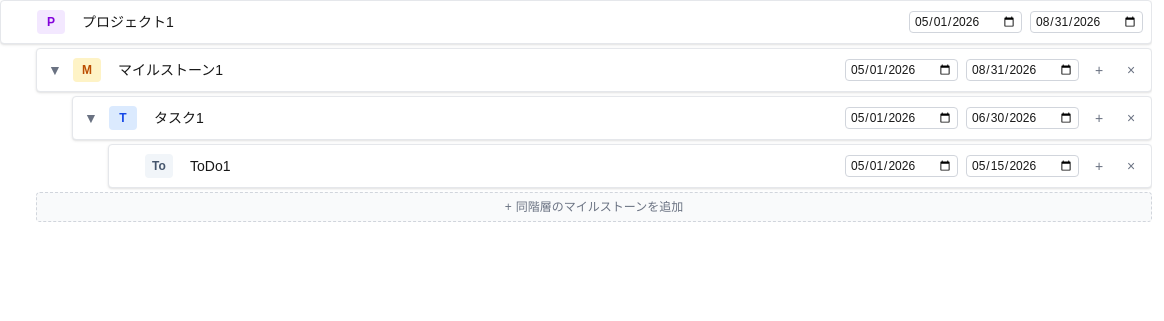
Test case: ManagementTree — 折り畳み後の Task 追加でスクロール › Task 追加ボタン押下で新 Task が表示され scrollIntoView が呼ばれる
// Task 行内の「同階層を追加」ボタン (handleAddTask) を data-row-id でスコープして特定
What coordinates should you click on to do the following:
click the button named "同階層を追加"
I would click on:
 (1099, 118)
Its box is [1087, 106, 1111, 130].
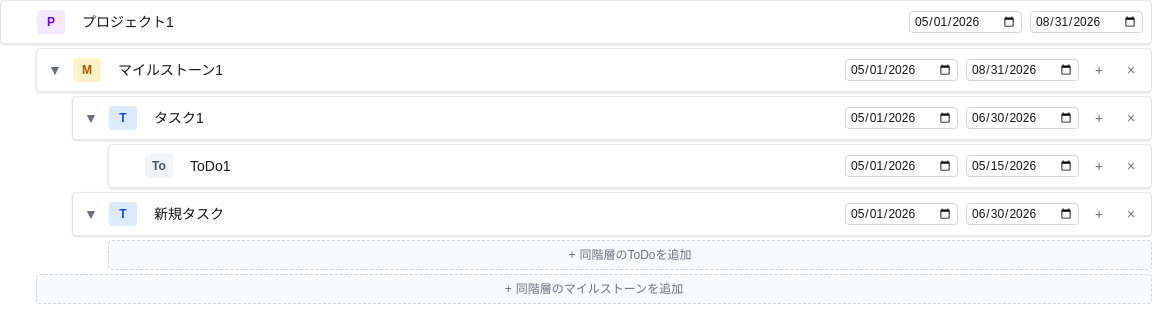
Expected: the 5th field showing "新規タスク" is shown, [145, 199, 837, 229]
